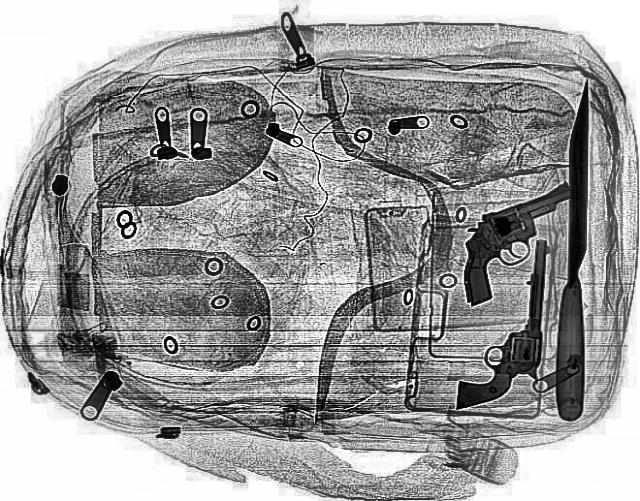Gun: (418, 182, 618, 306), (454, 237, 548, 410)
Knife: (552, 79, 598, 418)
